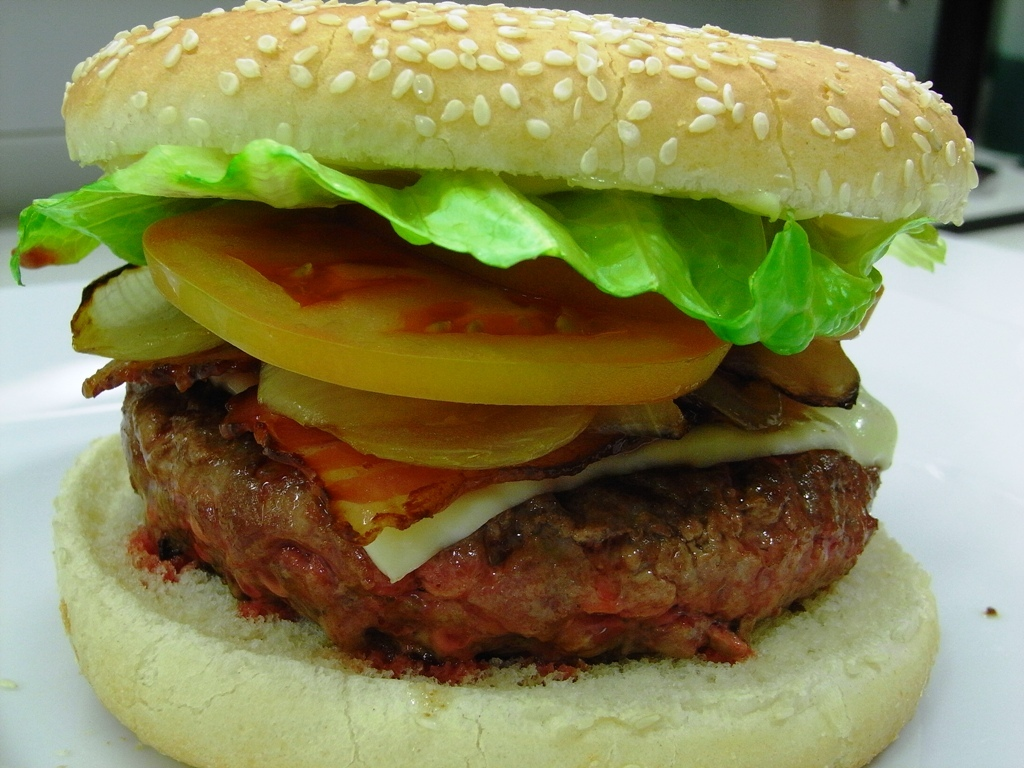Hamburger: (12, 0, 984, 767)
